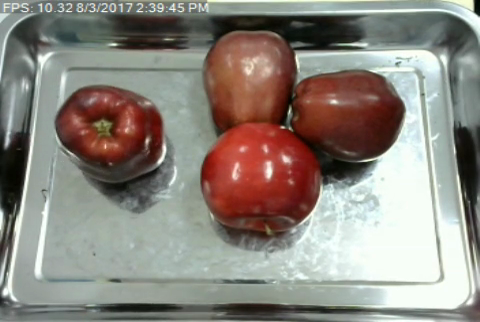Apple: (197, 118, 324, 237), (50, 81, 168, 185), (289, 67, 407, 164), (199, 26, 299, 134)
